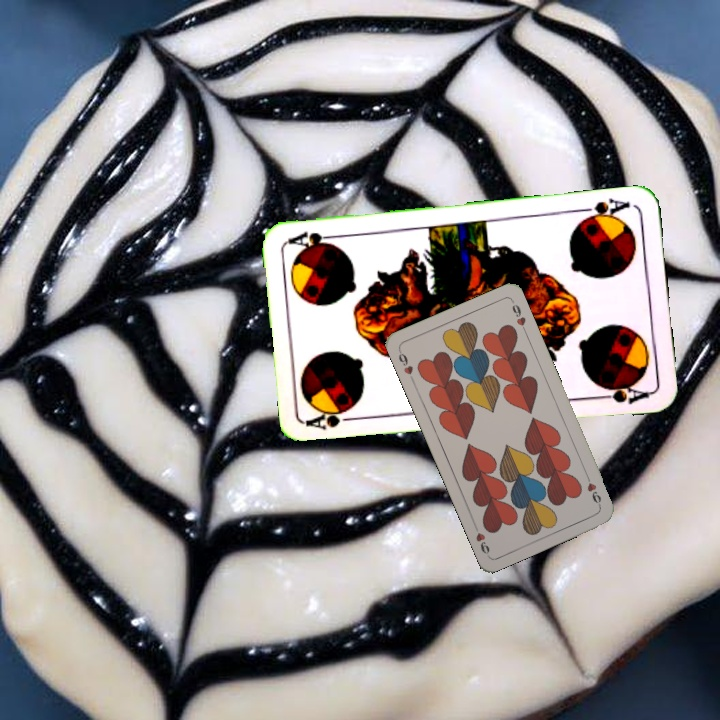H9: (581, 470, 604, 509), (394, 346, 417, 384)
SA: (574, 194, 632, 225), (304, 408, 363, 433)
